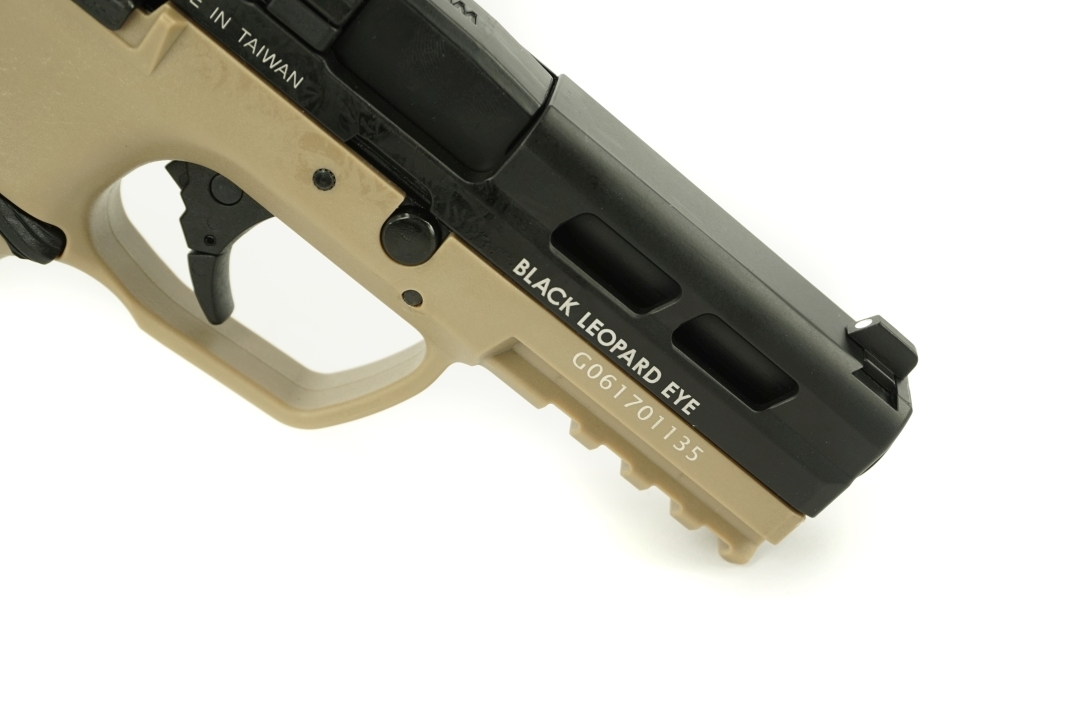asg_ics_ble_xae: (1, 1, 920, 574)
